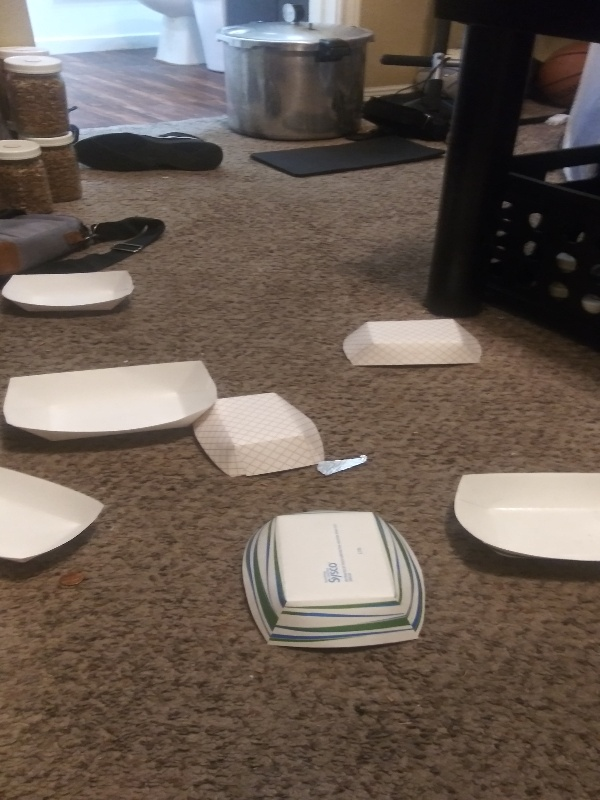plate: (238, 506, 433, 654), (1, 354, 220, 454), (448, 466, 600, 582), (1, 459, 108, 578), (188, 393, 328, 482), (335, 315, 487, 371), (1, 266, 140, 323)
